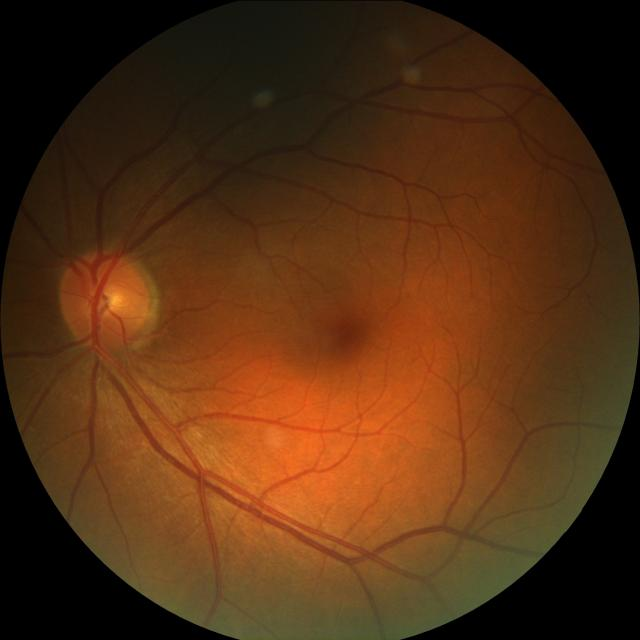OC: (88, 282, 125, 318)
OD: (57, 247, 151, 351)
